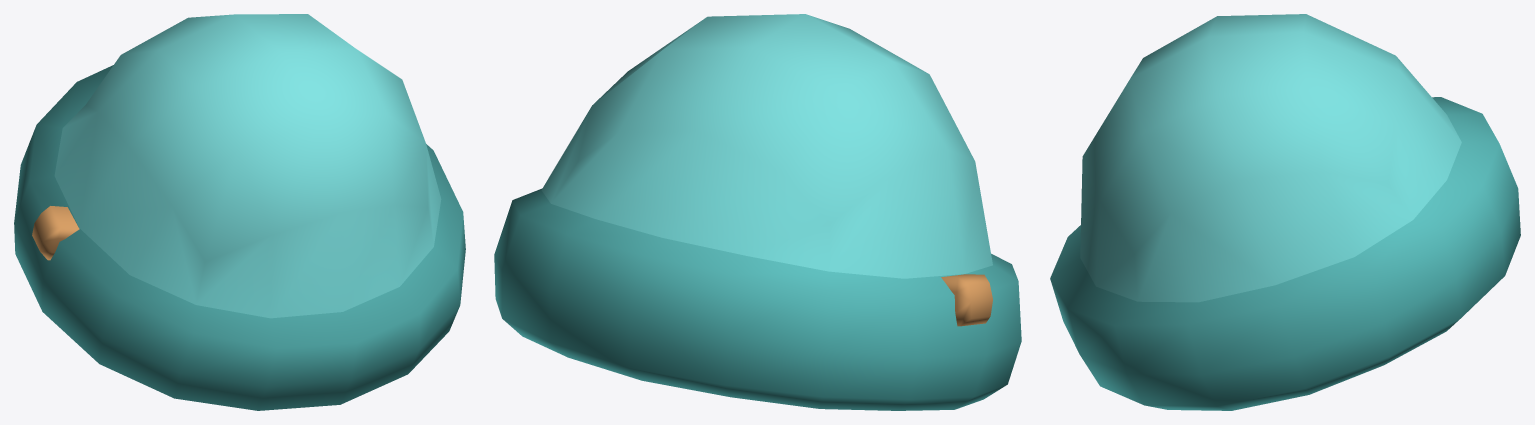
Rendered from Headgear_4.fbx.
3 views of the same model, side by side, from view 1: azimuth 30°, elevation 25°; view 2: azimuth 150°, elevation 25°; view 3: azimuth 270°, elevation 25° (orthographic). The views are drawn at different scales.
Parts seen in each view (by area): view 1: Headgear_4; view 2: Headgear_4; view 3: Headgear_4.
Part boxes in pixels (bbox=[...]): Headgear_4: bbox=[14, 14, 465, 410]; Headgear_4: bbox=[494, 14, 1021, 410]; Headgear_4: bbox=[1050, 14, 1520, 410].
Bounding box in the file's own units: 91.52 × 70.65 × 91.21.
